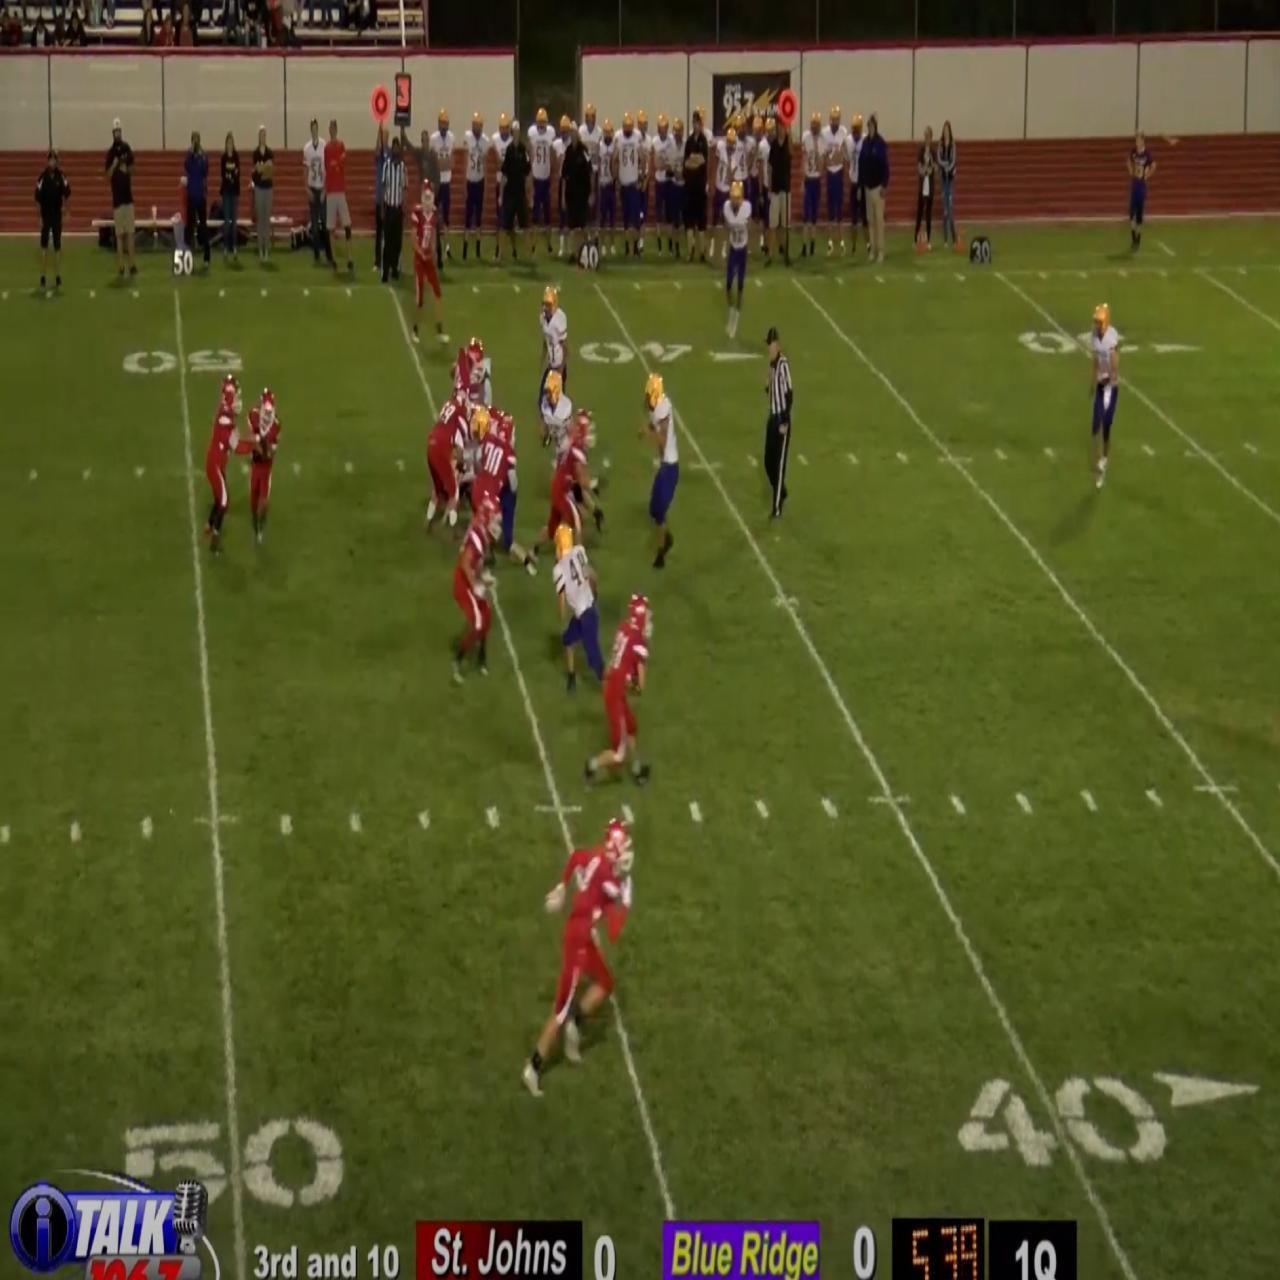30R: (1017, 326, 1206, 361)
40R: (955, 1070, 1260, 1171), (577, 335, 765, 361)
50: (121, 1116, 346, 1218), (120, 346, 244, 374)
